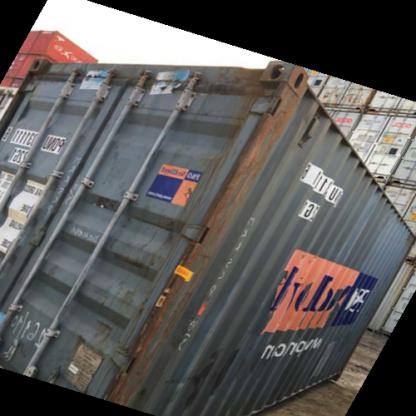Damage: (124, 237, 204, 355), (226, 62, 272, 98), (150, 64, 196, 98), (70, 64, 115, 96), (99, 143, 132, 186), (290, 246, 316, 284), (70, 196, 123, 212), (88, 312, 114, 342)
